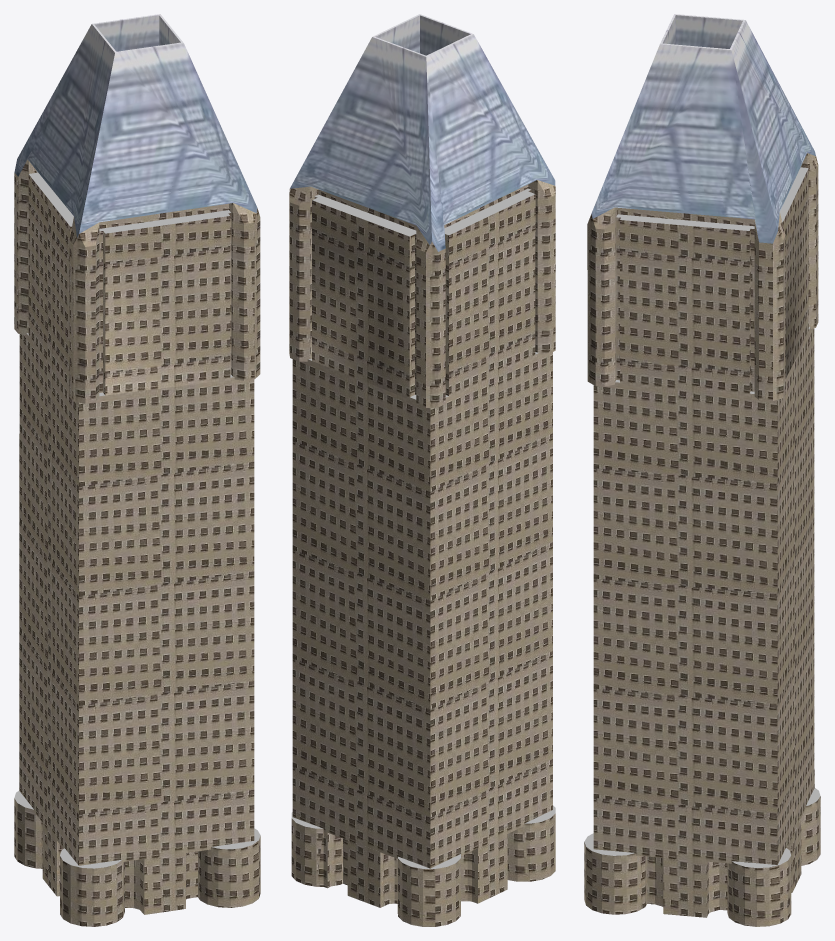
The picture shows the model from 3 angles, left to right: view 1: azimuth 30°, elevation 25°; view 2: azimuth 150°, elevation 25°; view 3: azimuth 270°, elevation 25°; orthographic projection.
Parts seen in each view (by area): view 1: geometry_0; view 2: geometry_0; view 3: geometry_0.
Part boxes in pixels (x1,y1,x2,y2): geometry_0: (14,14,260,926); geometry_0: (289,14,555,926); geometry_0: (584,14,820,926).
Size of the model in its own units: 54.84 by 218 by 55.2.
Materials: 1 (1 with a texture image).
